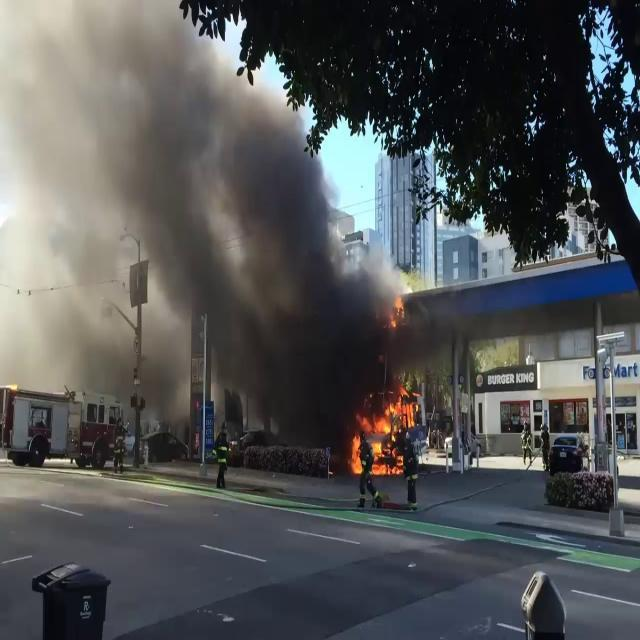Fire: (351, 380, 422, 476)
Smoke: (1, 3, 403, 436)
